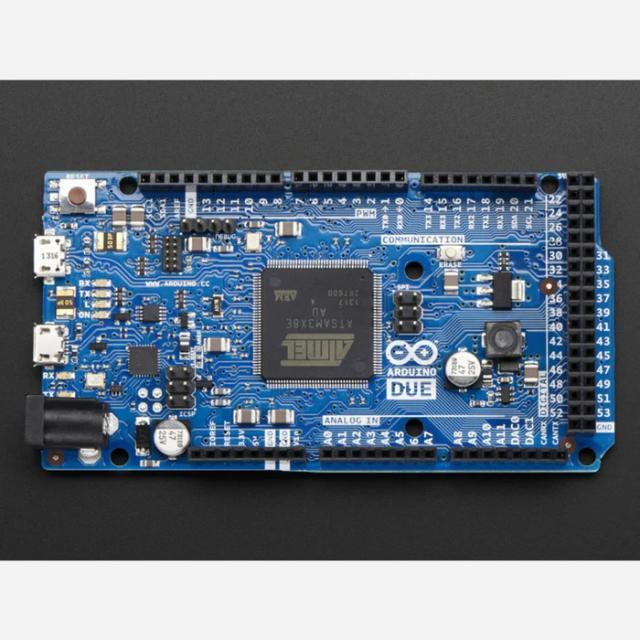Arduino-Due: (26, 171, 616, 474)
